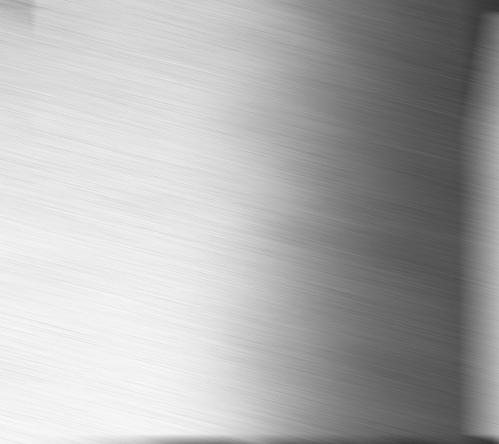Airbag: (0, 0, 499, 444), (483, 0, 499, 444), (483, 440, 499, 444)
